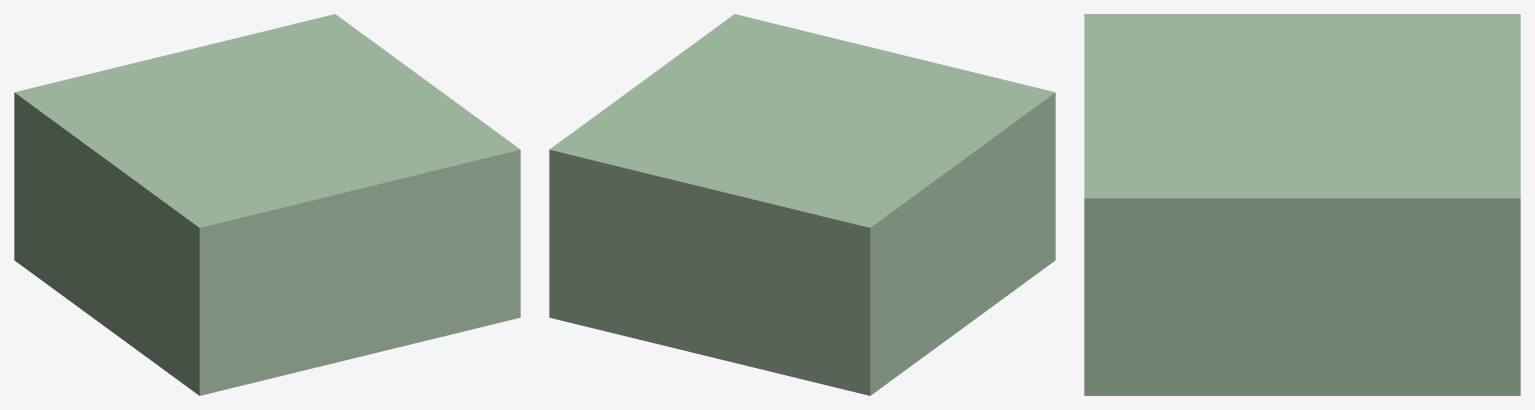
File: Climb_TopHalf.glb
3 views of the same model, side by side, from view 1: azimuth 30°, elevation 25°; view 2: azimuth 150°, elevation 25°; view 3: azimuth 270°, elevation 25° (orthographic). The views are drawn at different scales.
Parts seen in each view (by area): view 1: Climb_TopHalf_body; view 2: Climb_TopHalf_body; view 3: Climb_TopHalf_body.
Boxes of the visible parts, x1=… form: Climb_TopHalf_body: x1=14, y1=14, x2=520, y2=395; Climb_TopHalf_body: x1=549, y1=14, x2=1055, y2=395; Climb_TopHalf_body: x1=1084, y1=14, x2=1520, y2=395.
Bounding box in the file's own units: 1 × 0.5 × 1.
